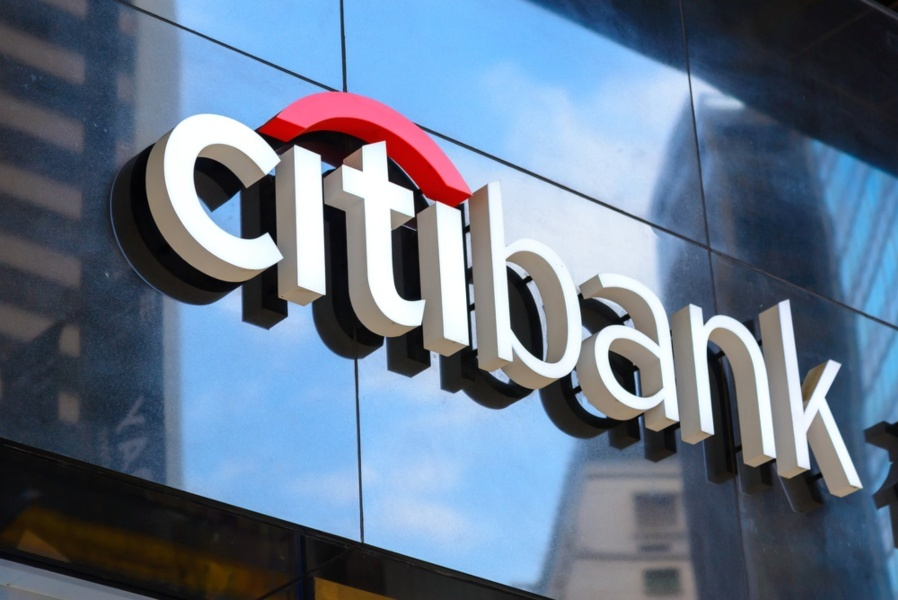text: (177, 65, 192, 510), (193, 65, 208, 510), (209, 65, 224, 510), (225, 65, 240, 510), (241, 65, 256, 510), (257, 65, 272, 510), (273, 65, 288, 510), (289, 65, 304, 510), (305, 65, 320, 510), (321, 65, 336, 510), (337, 65, 352, 510), (353, 65, 368, 510), (369, 65, 384, 510), (385, 65, 400, 510), (401, 65, 416, 510), (417, 65, 432, 510), (433, 65, 448, 510), (449, 65, 464, 510), (465, 65, 480, 510), (481, 65, 496, 510), (497, 65, 512, 510), (513, 65, 528, 510), (529, 65, 544, 510), (545, 65, 560, 510), (561, 65, 576, 510), (577, 65, 592, 510), (593, 65, 608, 510), (609, 65, 624, 510), (625, 65, 640, 510), (641, 65, 656, 510), (657, 65, 672, 510), (673, 65, 688, 510), (689, 65, 704, 510), (705, 65, 720, 510), (721, 65, 736, 510), (737, 65, 752, 510), (753, 65, 768, 510), (769, 65, 784, 510), (785, 65, 800, 510), (801, 65, 816, 510), (817, 65, 832, 510), (833, 65, 848, 510), (849, 65, 864, 510), (164, 65, 176, 510), (113, 391, 128, 485), (129, 391, 144, 485), (865, 65, 868, 510), (145, 391, 156, 485), (97, 420, 112, 469), (93, 420, 96, 469), (113, 420, 116, 469)
